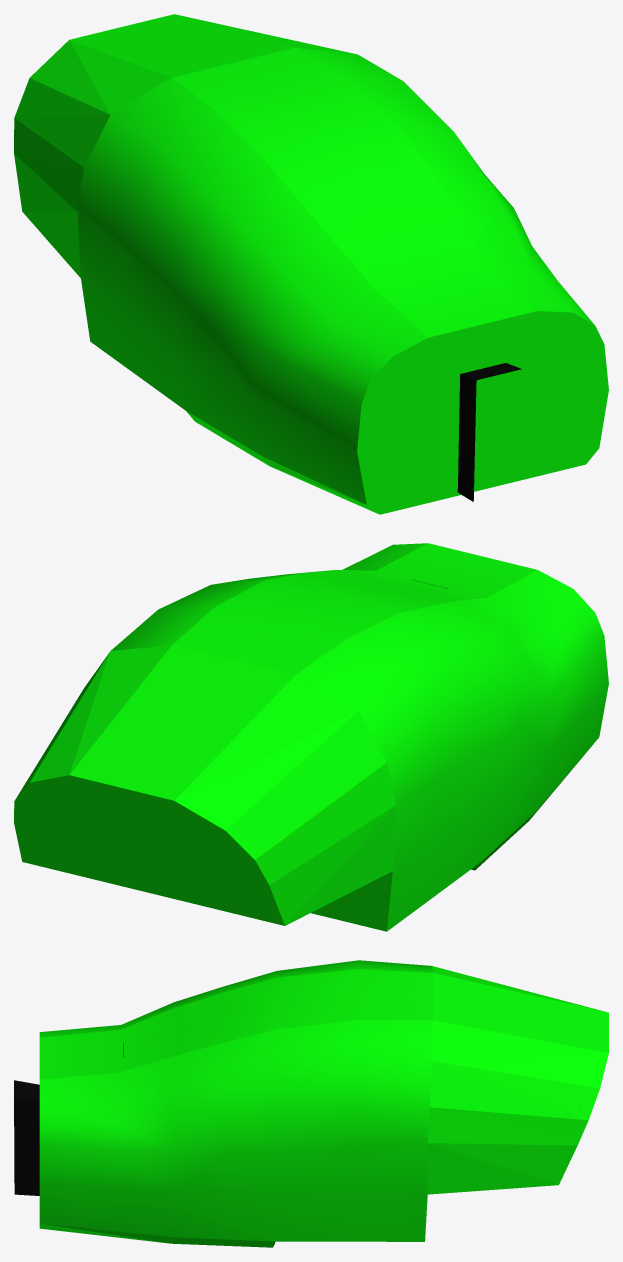
File: VL3_cockpit_lod4.gltf
3 views of the same model, one above another, from view 1: azimuth 30°, elevation 25°; view 2: azimuth 150°, elevation 25°; view 3: azimuth 270°, elevation 25° (orthographic). The views are drawn at different scales.
Visible parts, largest first — view 1: Occluder, InteriorShell; view 2: Occluder; view 3: Occluder, InteriorShell.
Boxes of the visible parts, x1,y1,x2,y2 form: Occluder: [14, 14, 608, 514]; InteriorShell: [457, 363, 521, 501]; Occluder: [14, 543, 608, 931]; Occluder: [39, 960, 608, 1247]; InteriorShell: [14, 1080, 39, 1195].
Size of what is drawn, in the model's own units: 1.13 by 0.8652 by 2.32.
